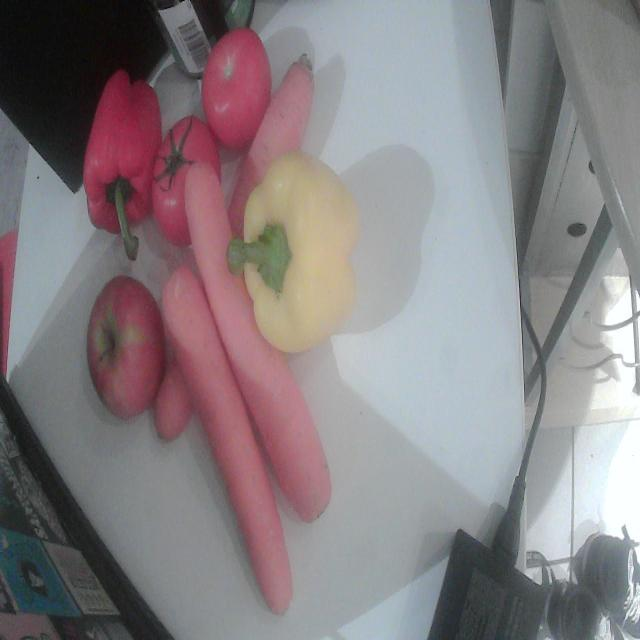Apple: (87, 276, 166, 419)
Bell Pepper: (228, 154, 360, 353), (84, 70, 162, 264)
Carrot: (186, 164, 331, 521), (162, 268, 292, 613), (228, 54, 314, 236)
Tomato: (152, 116, 220, 246), (202, 28, 272, 150)
